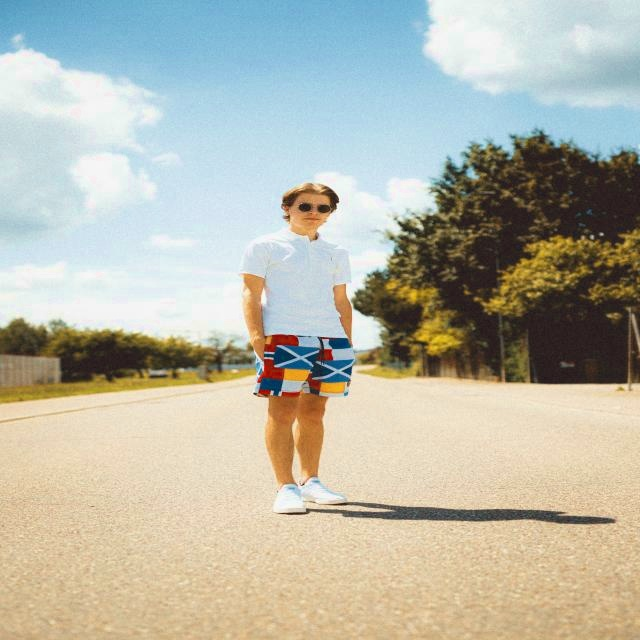Shorts: (250, 336, 362, 478)
